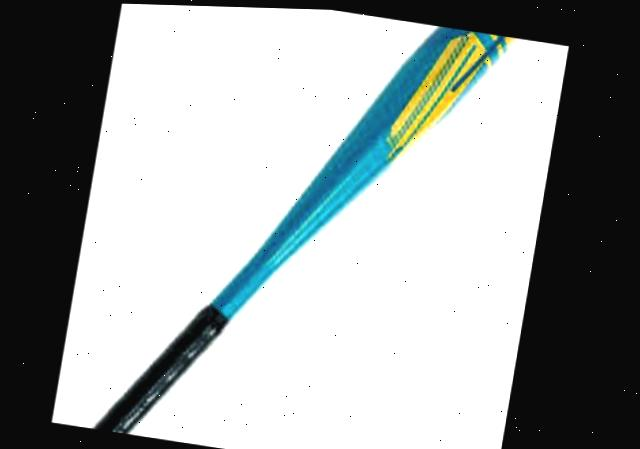baseball bat: (76, 23, 516, 435)
